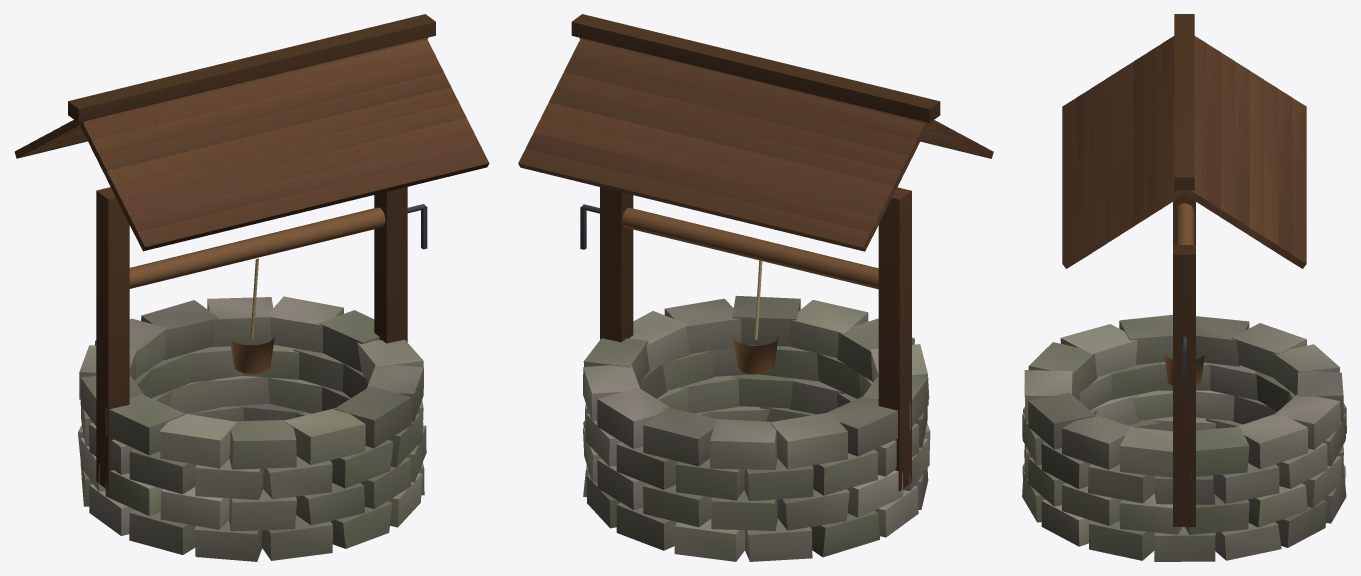
The model's file is well.glb.
3 renders of one model, left to right at view 1: azimuth 30°, elevation 25°; view 2: azimuth 150°, elevation 25°; view 3: azimuth 270°, elevation 25°, orthographic. The views are drawn at different scales.
Parts seen in each view (by area): view 1: well; view 2: well; view 3: well.
Boxes of the visible parts, x1=… form: well: x1=14, y1=14, x2=489, y2=561; well: x1=518, y1=14, x2=993, y2=561; well: x1=1022, y1=14, x2=1346, y2=561.
Bounding box in the file's own units: 2.7 × 3.09 × 2.27.
